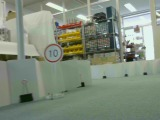speed_10: (41, 43, 63, 64)
